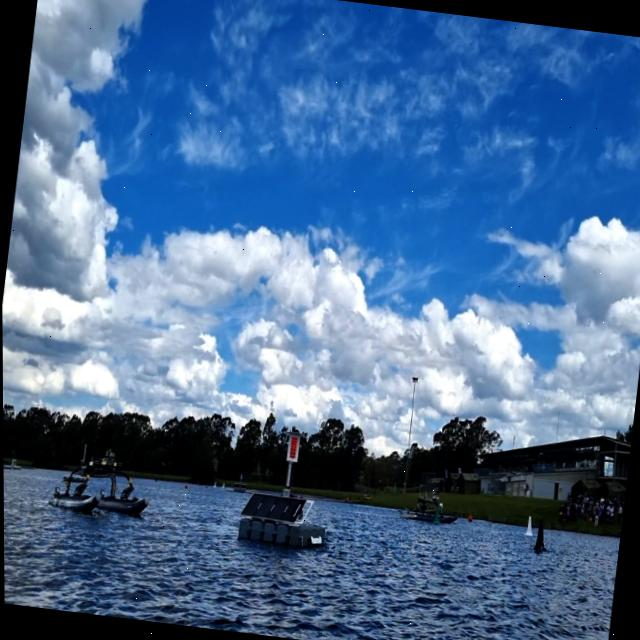led: (287, 434, 298, 460)
